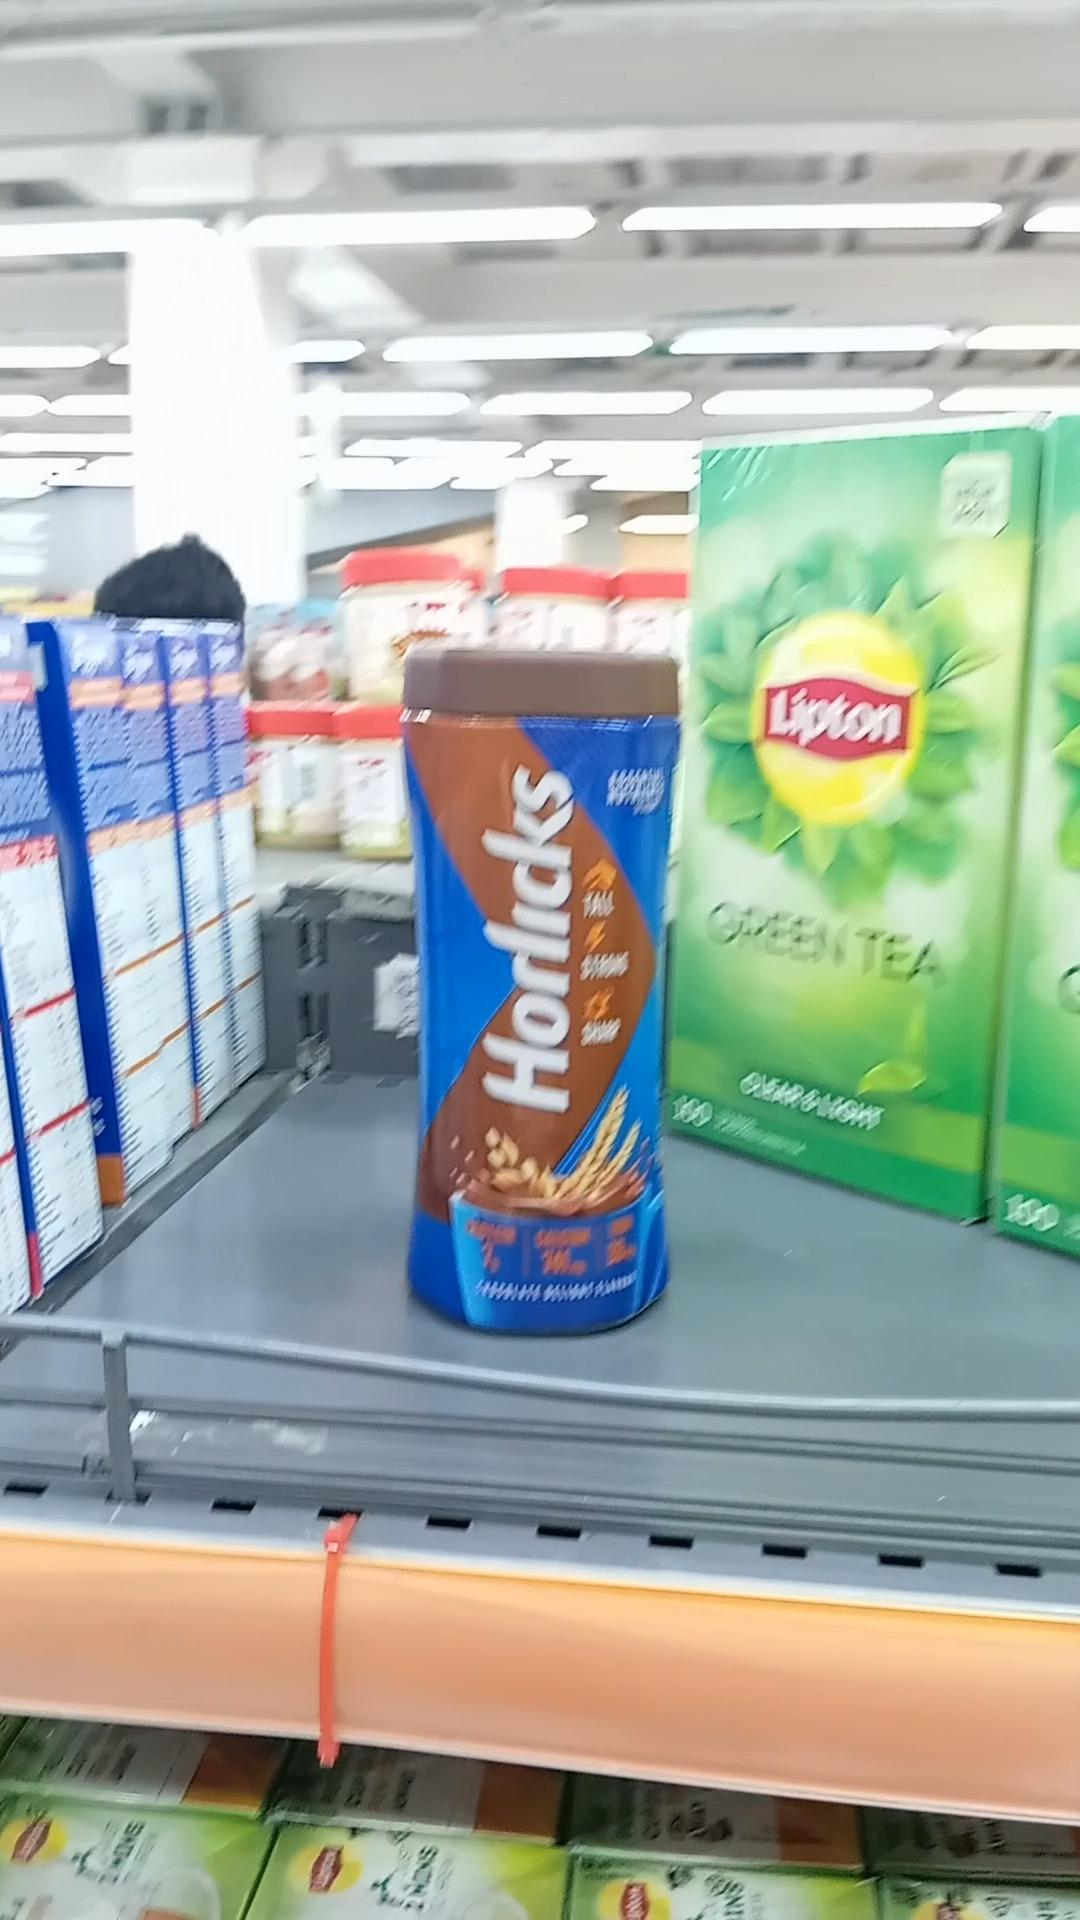HORLICK_CHOCOLATE_500_G_JAR: (400, 626, 665, 1342)
